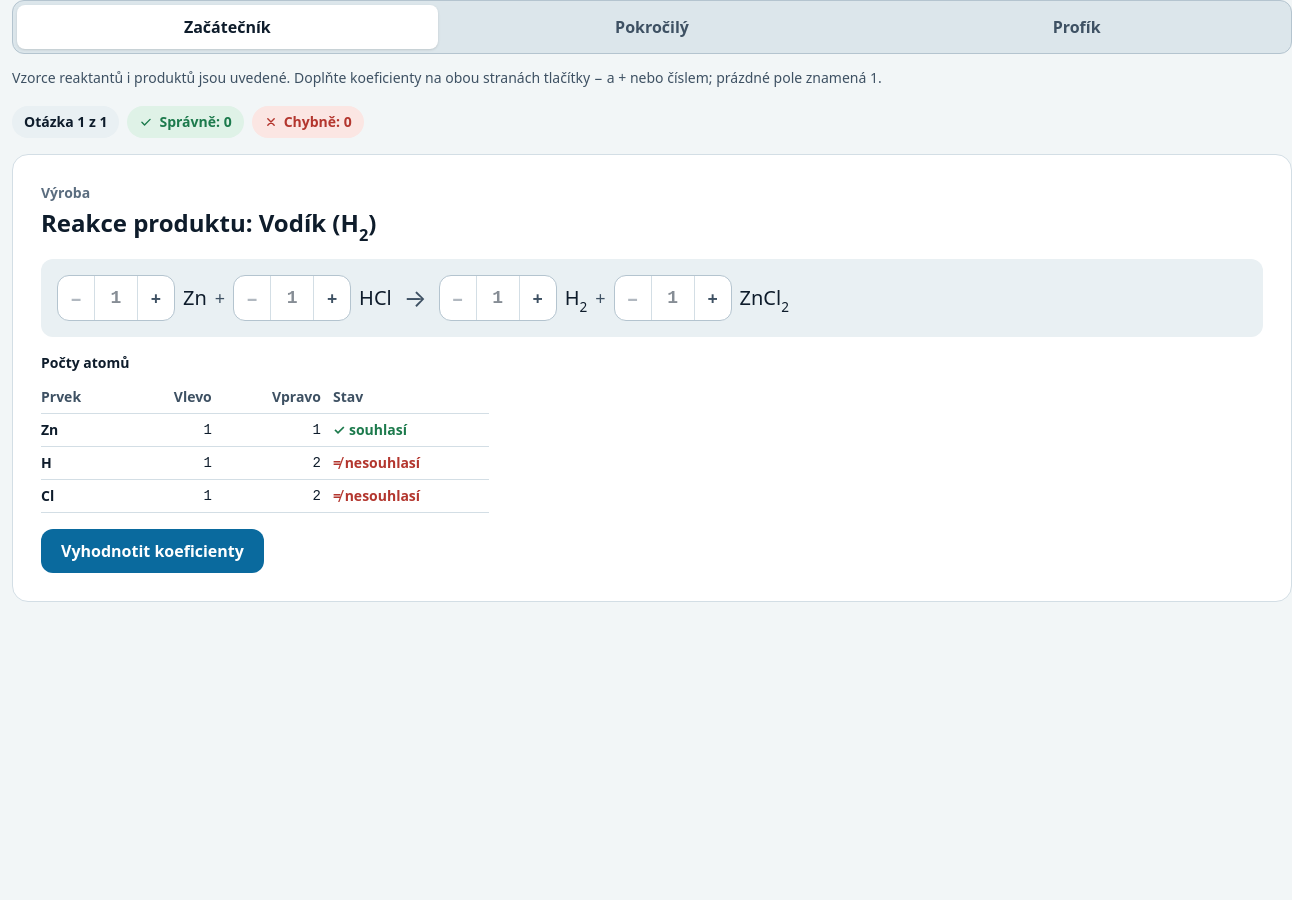
Scenario: reaction equation practice › explains that a balanced entry is not in the lowest ratio
The image size is (1292, 900).
Step 1. Type "2" into the field named "Koeficient reaktant Zn" → (116,298), box [94,276,138,320]
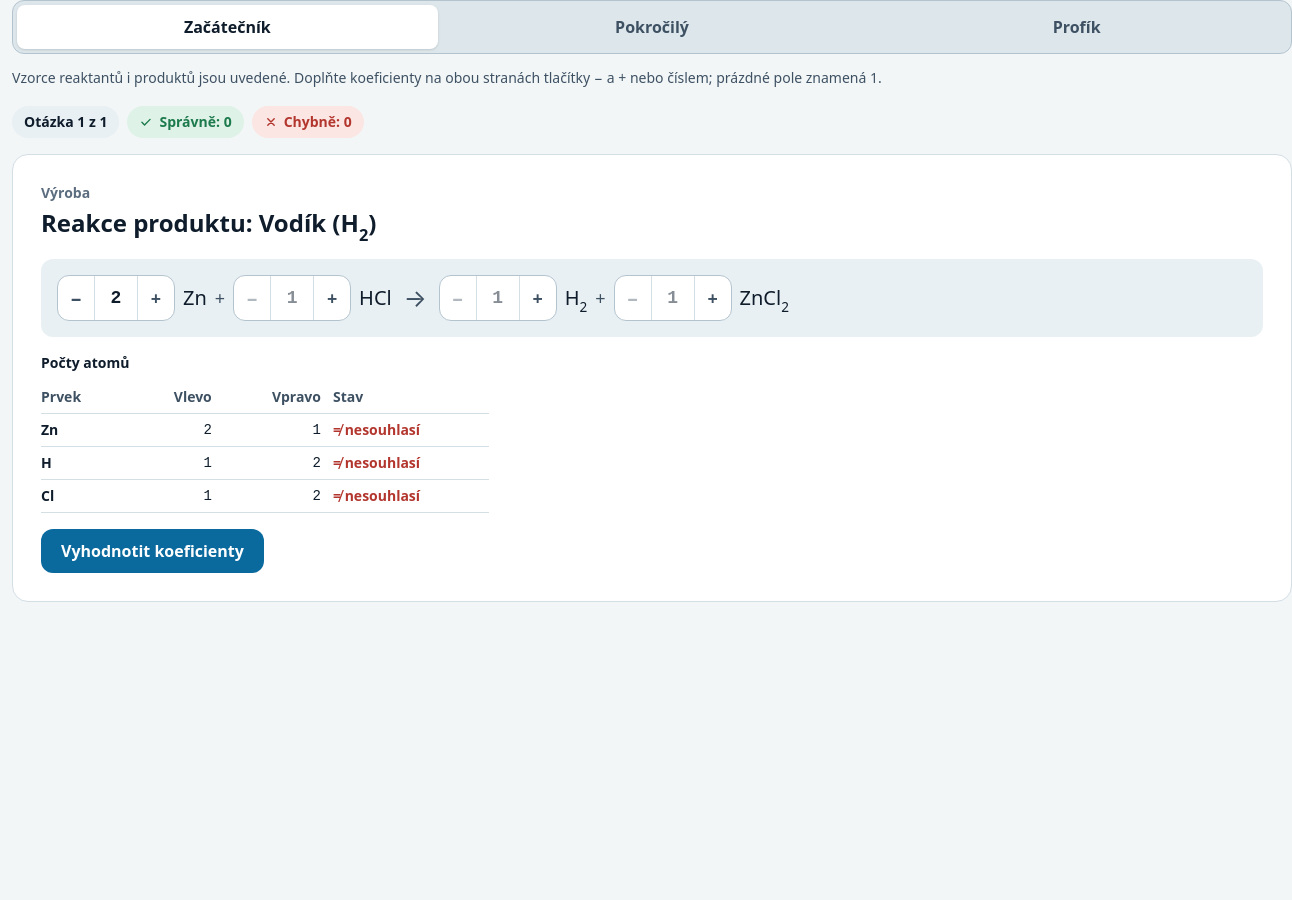
Step 2. Type "4" into the field named "Koeficient reaktant HCl" → (292,298), box [270,276,314,320]
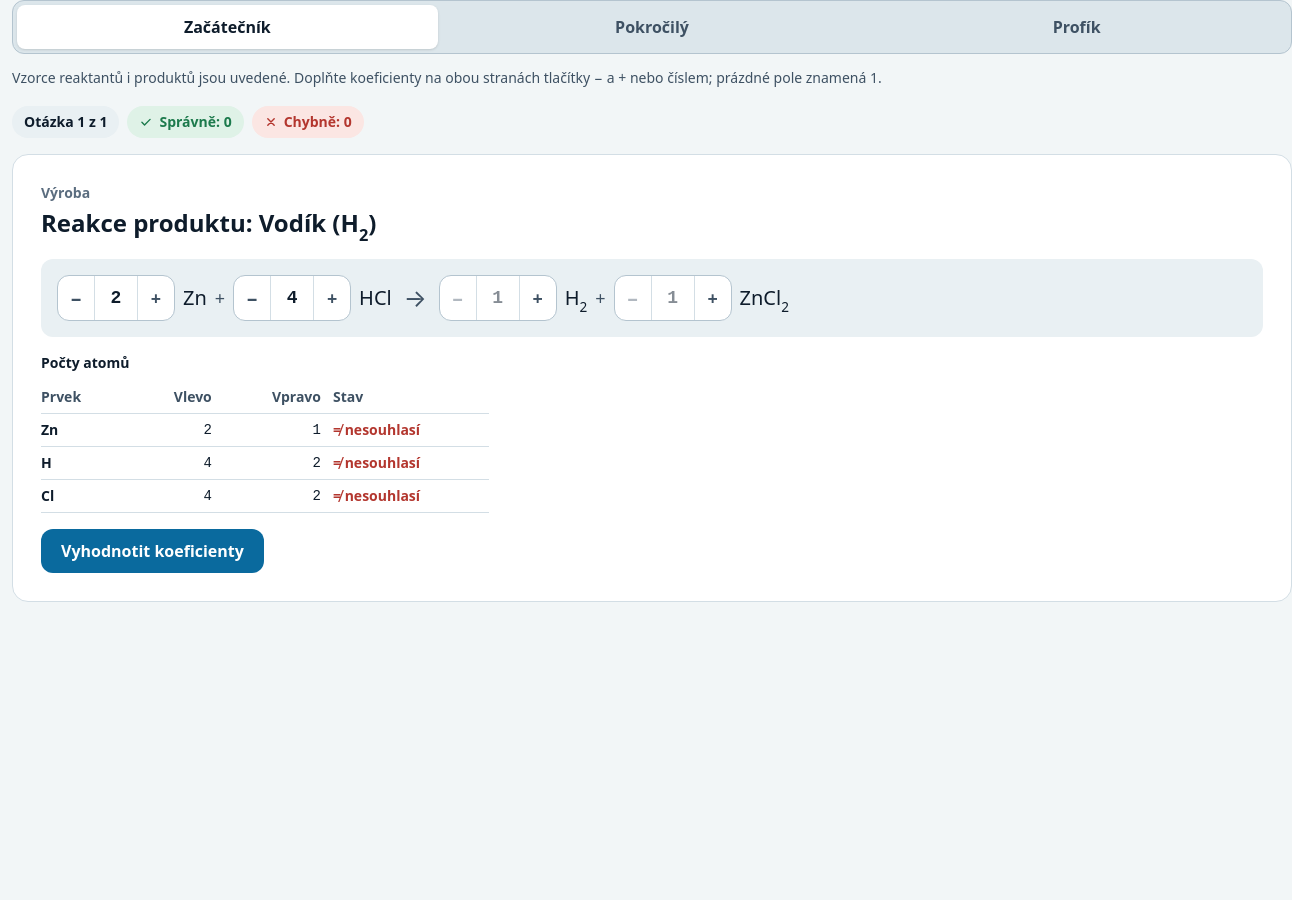
Step 3. Type "2" into the field named "Koeficient produkt H2" → (498,298), box [476,276,520,320]
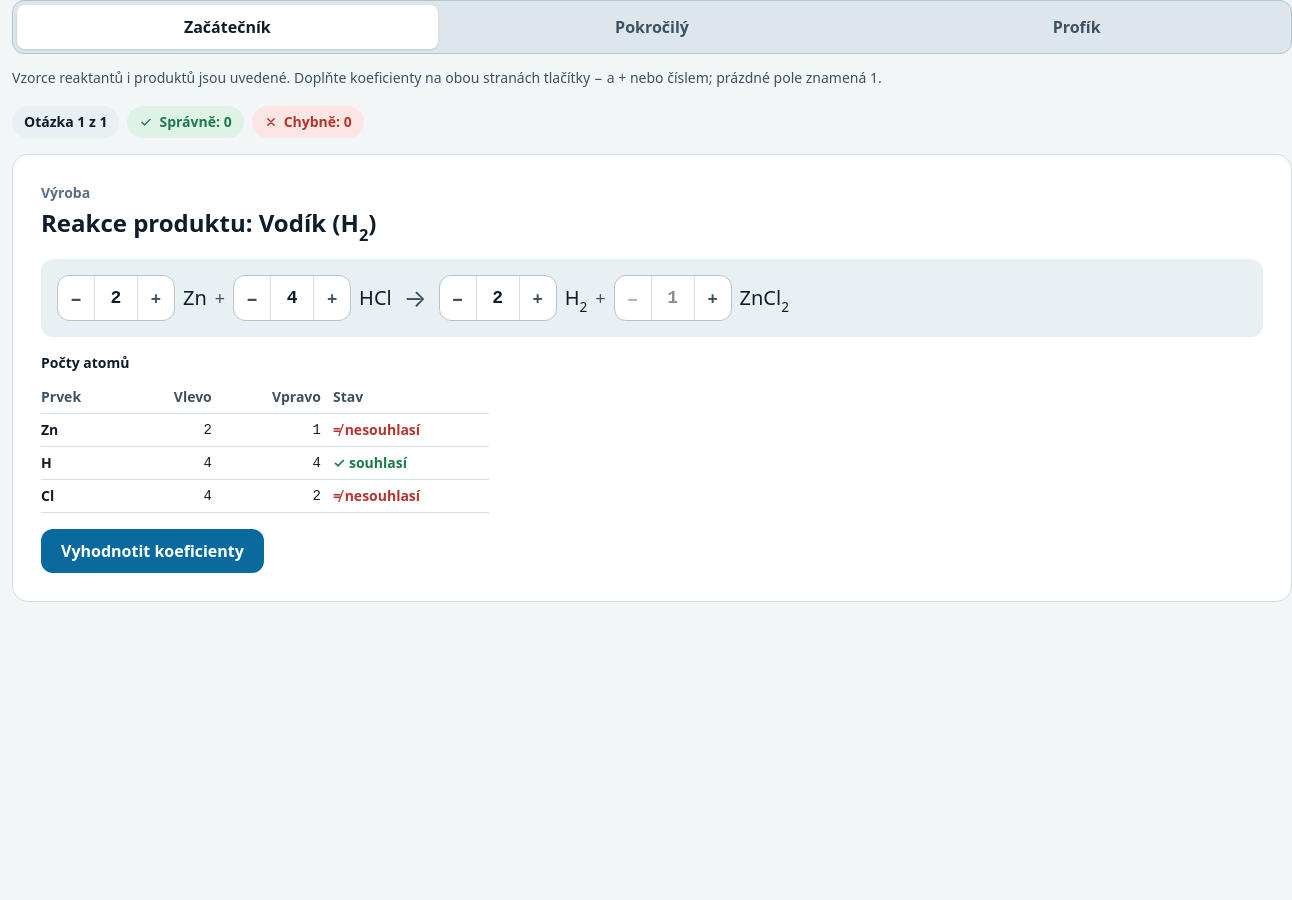
Step 4. Type "2" into the field named "Koeficient produkt ZnCl2" → (672,298), box [650,276,694,320]
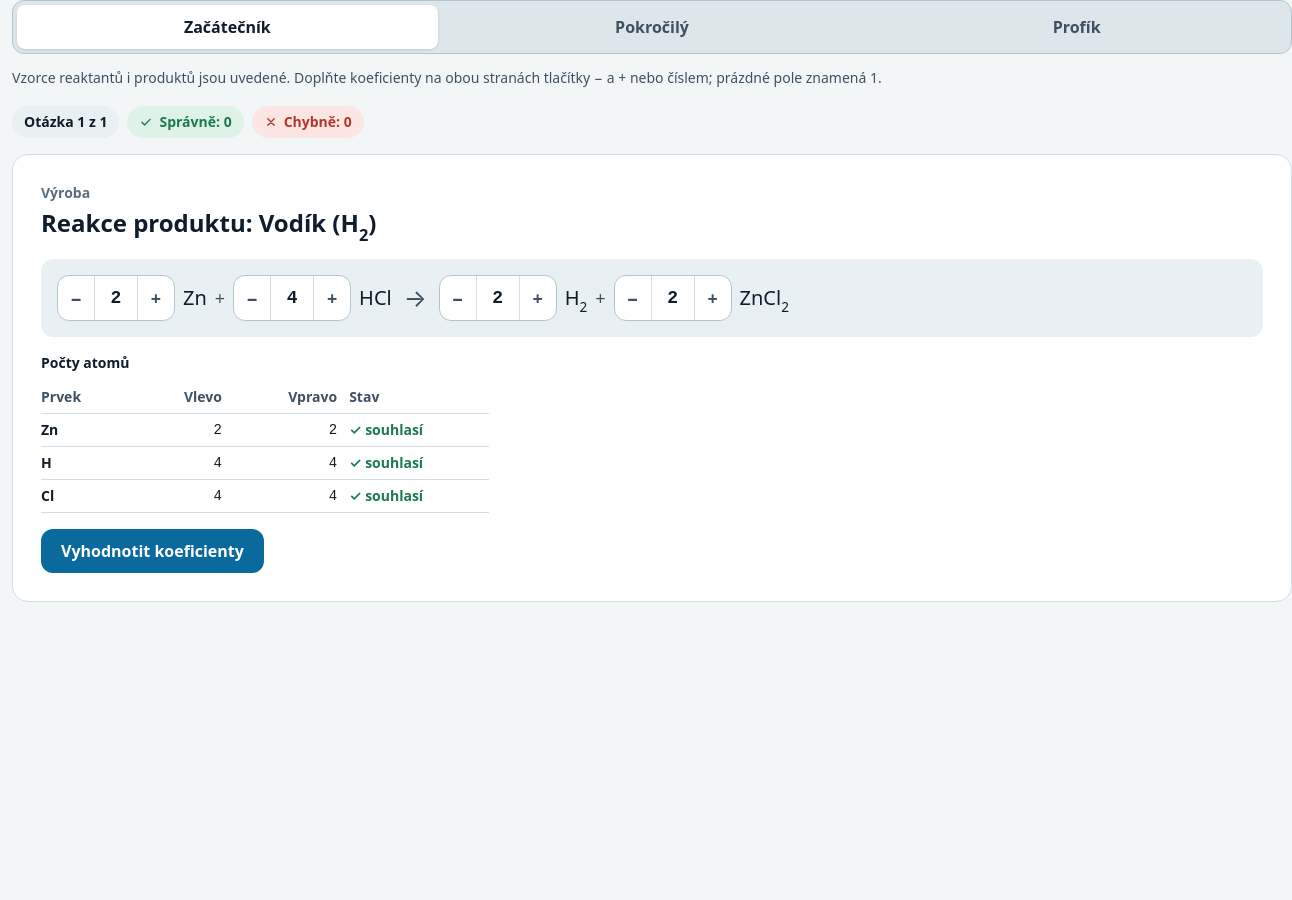
Step 5. Click the button "Vyhodnotit koeficienty" → (152,551), box [41,529,264,573]
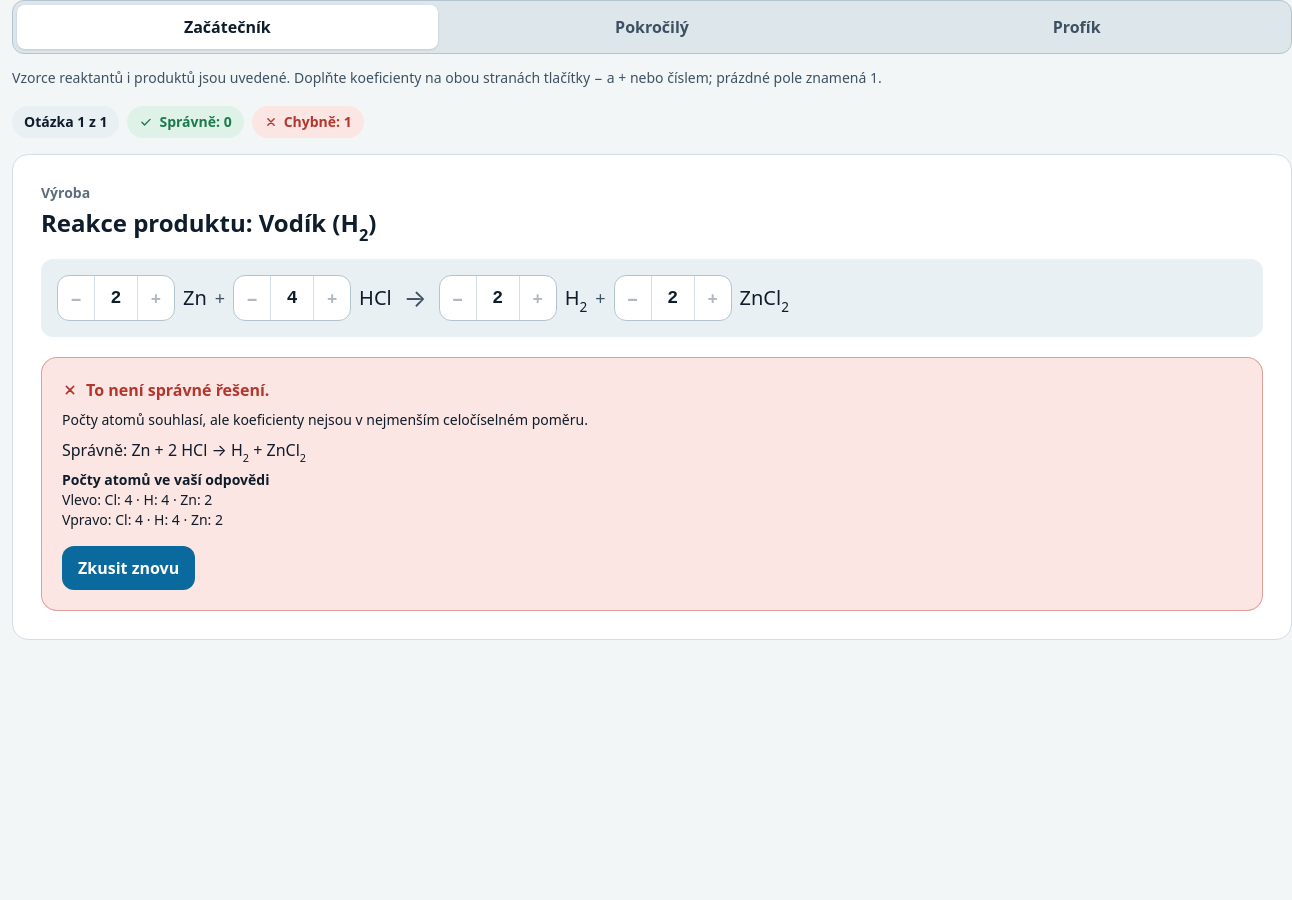
Check: the text "To není správné řešení." is shown, box [86,378,269,402]
Check: the text "Počty atomů souhlasí, ale koeficienty nejsou v nejmenším celočíselném poměru." is shown, box [62,410,588,429]
